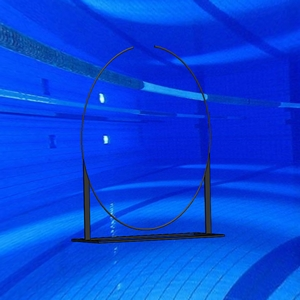circle: (71, 44, 226, 244)
